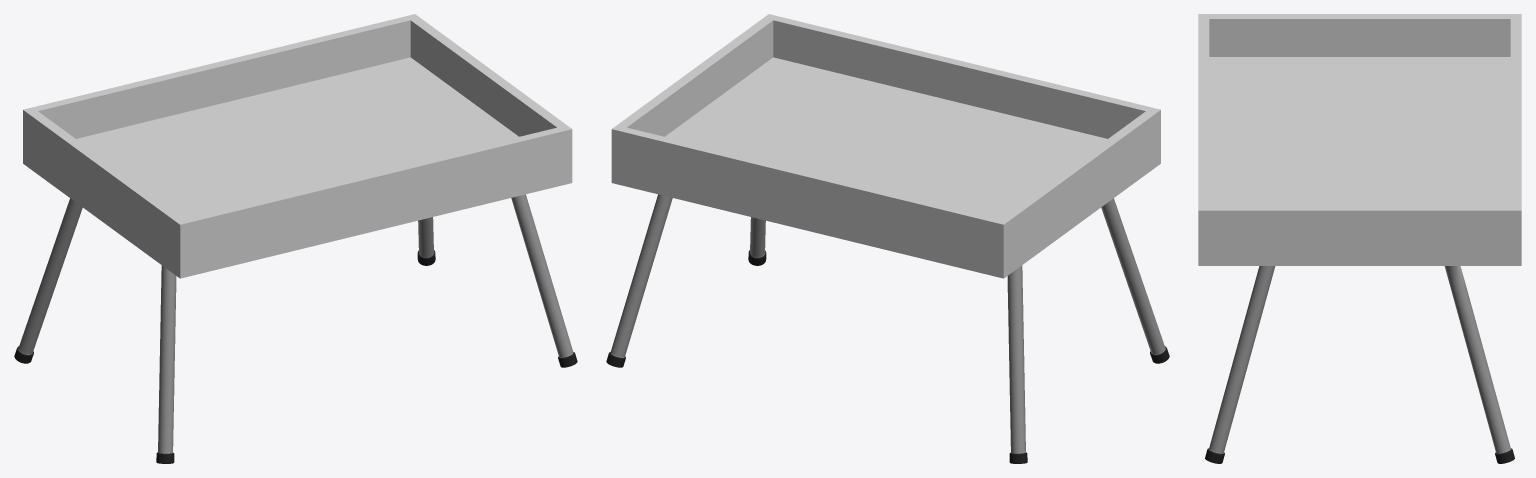
Rendered from BarbecueStand.fbx.
3 views of the same model, side by side, from view 1: azimuth 30°, elevation 25°; view 2: azimuth 150°, elevation 25°; view 3: azimuth 270°, elevation 25° (orthographic). The views are drawn at different scales.
Visible parts, largest first — view 1: Cube, Bottom; view 2: Cube, Bottom; view 3: Cube, Bottom.
Part boxes in pixels (left/top/right/bottom): Cube: left=23, top=14, right=572, bottom=278; Bottom: left=14, top=194, right=577, bottom=463; Cube: left=611, top=14, right=1160, bottom=278; Bottom: left=606, top=194, right=1169, bottom=463; Cube: left=1198, top=14, right=1521, bottom=265; Bottom: left=1205, top=266, right=1514, bottom=463.
Bounding box in the file's own units: 214 × 119 × 139.
Materials: 1 (1 with a texture image).
